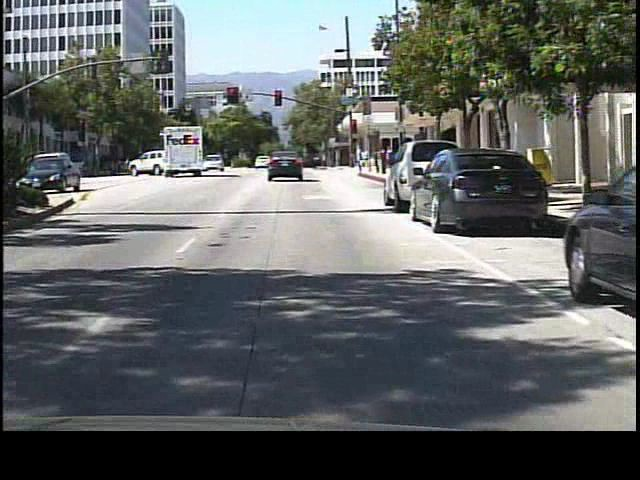person: (352, 146, 368, 178)
